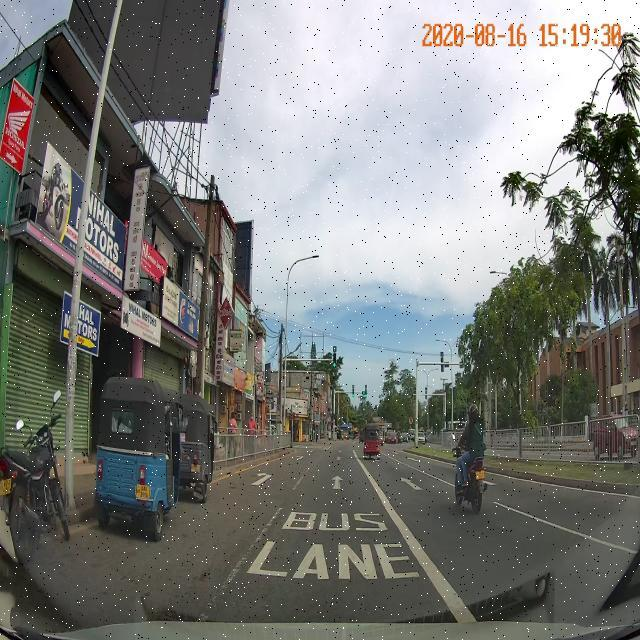forward: (282, 464, 394, 502)
